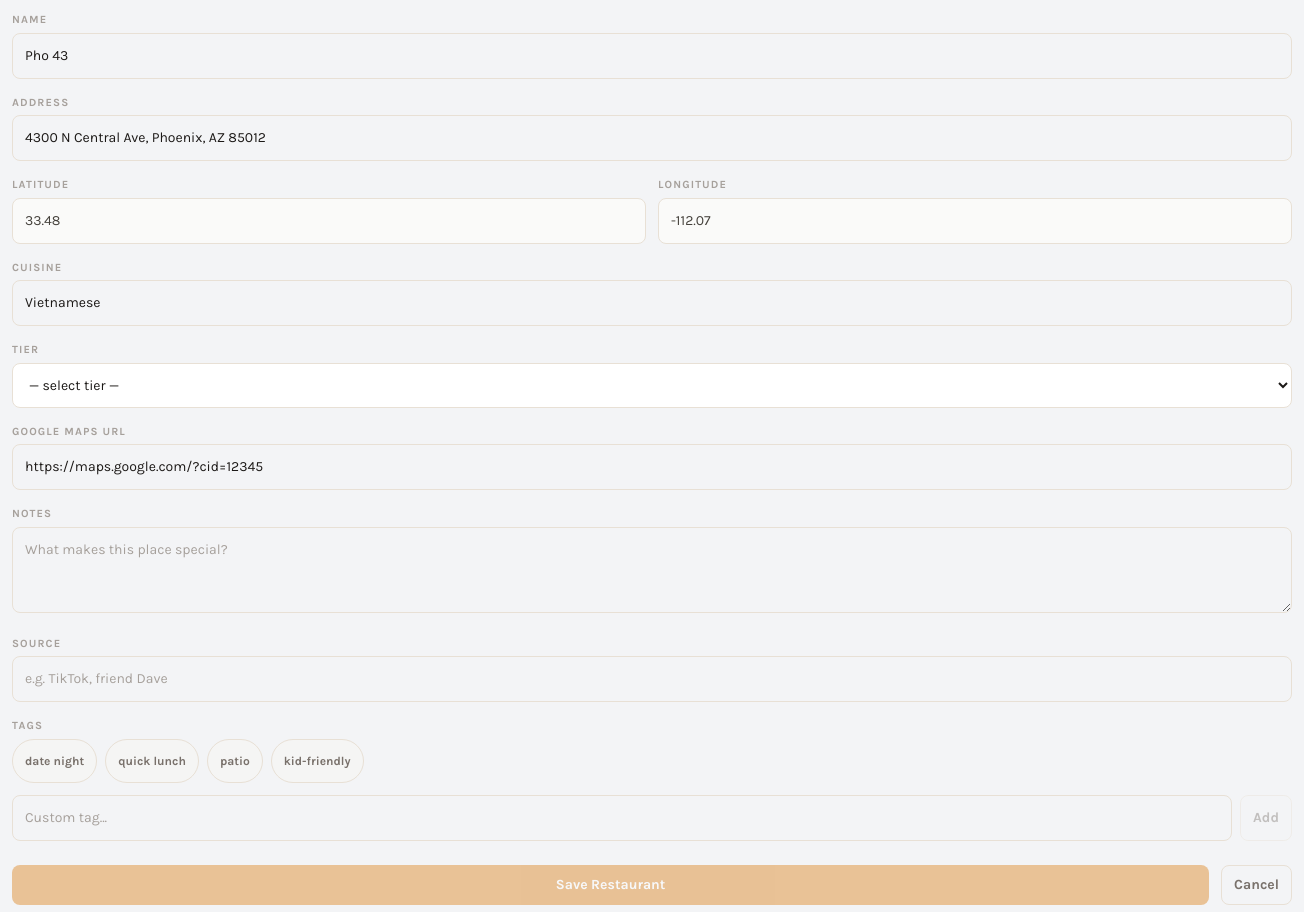
Test case: RestaurantDraftForm — tags field (AC 1, 2) › typing into custom tag input and clicking "Add" adds the custom tag as an active chip
In the field with test id "custom-tag-input": (622,818) left=12, top=794, right=1232, bottom=840, type "brunch spot"
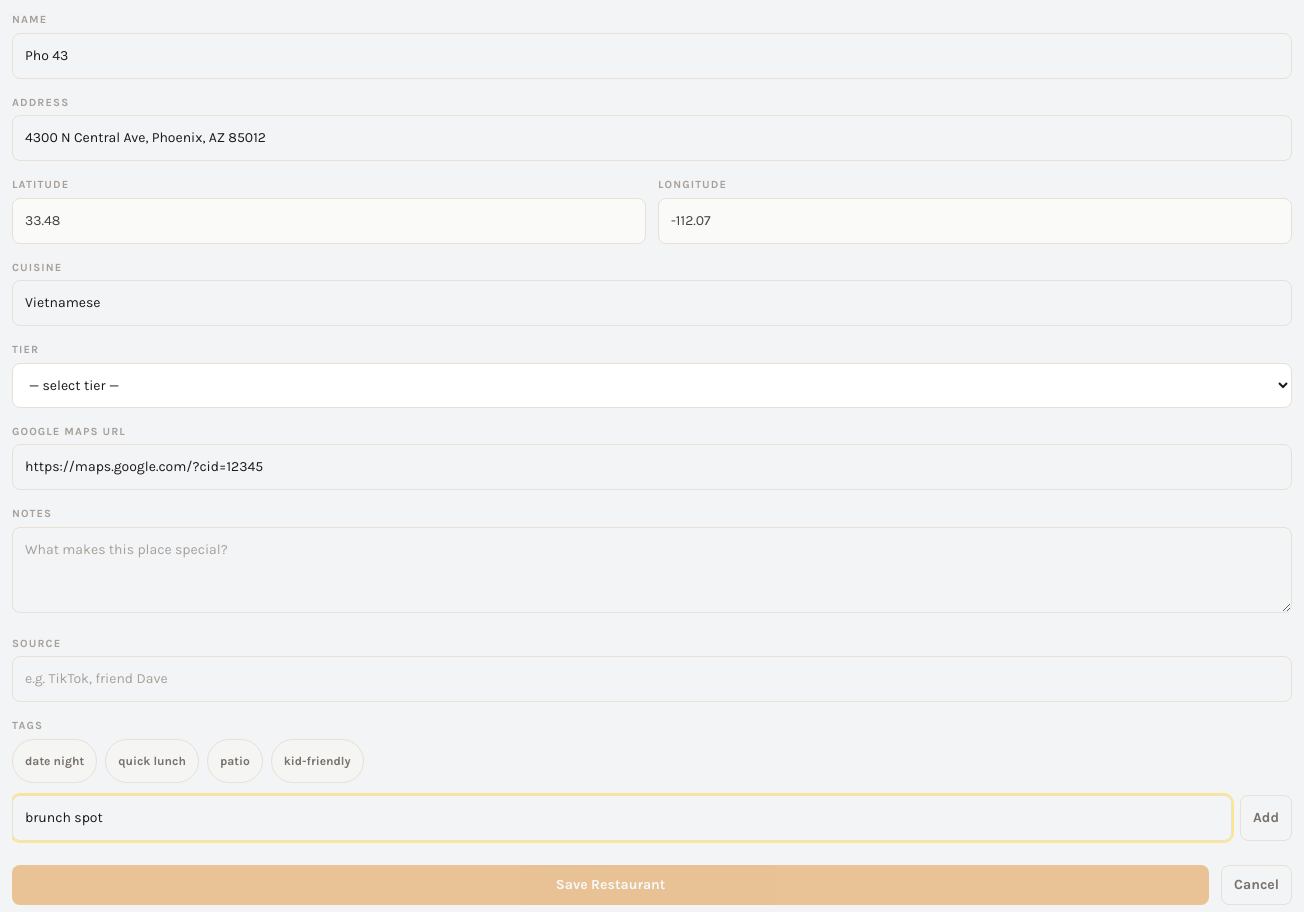
Click the button with test id "add-custom-tag-btn": (1266,818) left=1240, top=794, right=1292, bottom=840
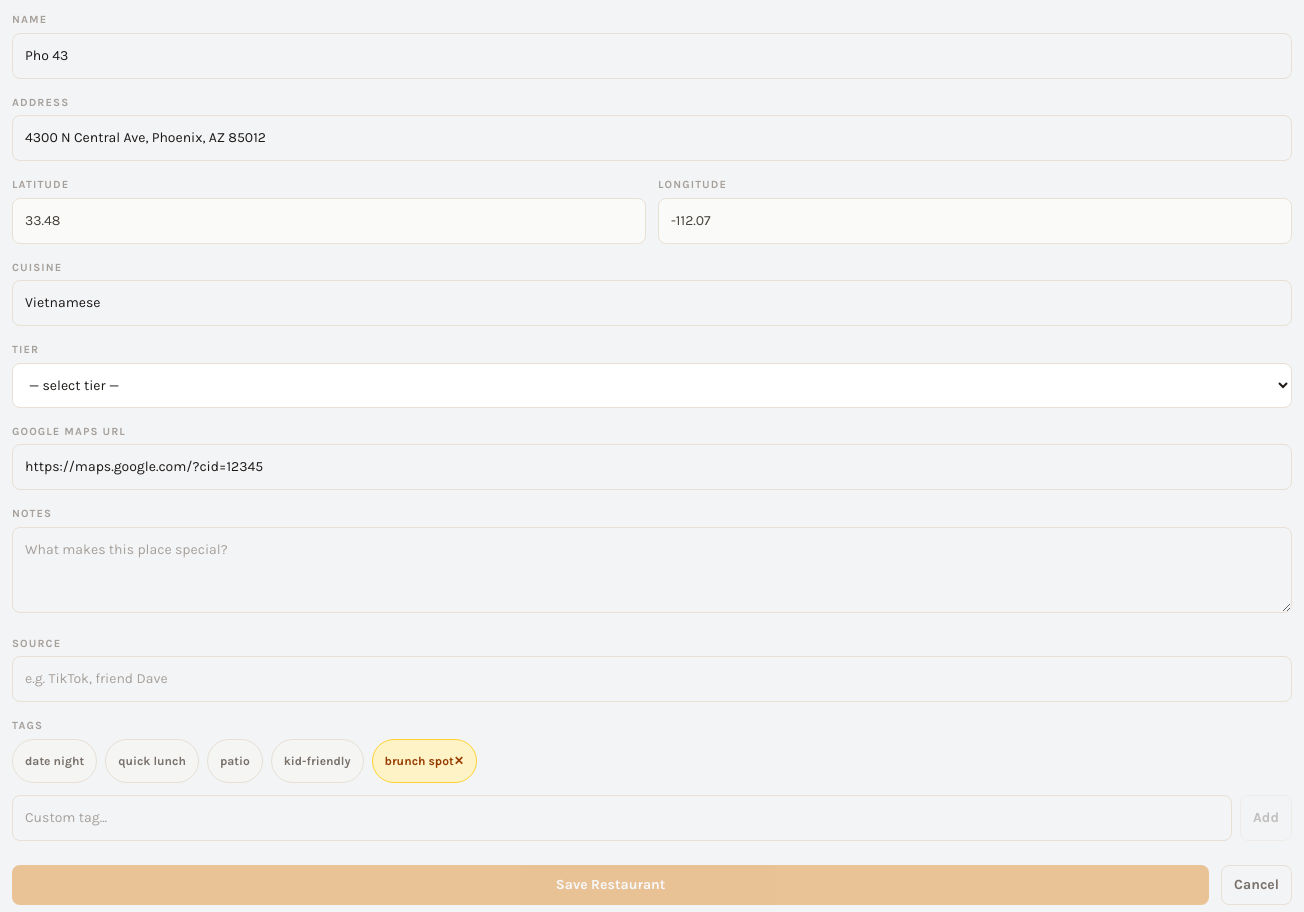
Now the button with aria-label "remove tag: brunch spot" is shown, box left=372, top=738, right=477, bottom=782
